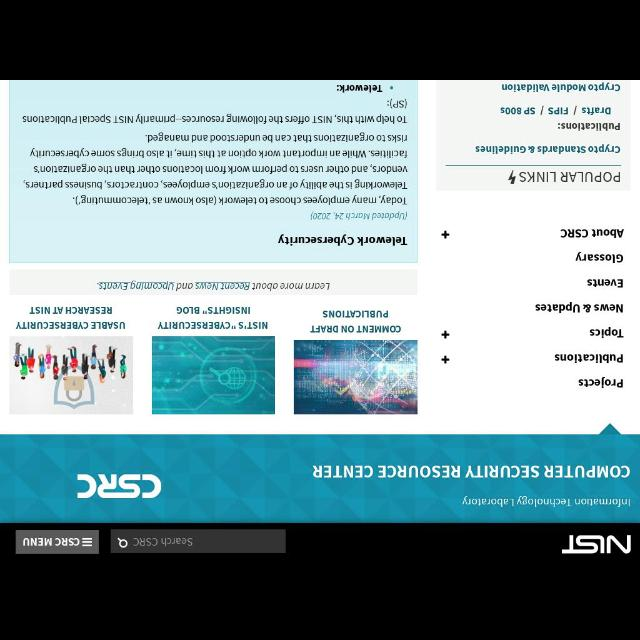icon: (118, 537, 128, 549), (508, 170, 516, 183), (81, 538, 92, 546), (441, 354, 449, 364), (441, 330, 449, 340), (441, 230, 449, 238), (388, 84, 394, 90)
image: (9, 336, 132, 414), (153, 336, 275, 414), (292, 340, 418, 414), (76, 473, 162, 499), (561, 534, 631, 554)
input: (111, 529, 286, 553)
link: (98, 280, 174, 290), (194, 280, 250, 290)
multitab: (441, 228, 624, 388)
text: (22, 99, 408, 205), (312, 464, 630, 478), (158, 306, 268, 330), (16, 306, 126, 330), (96, 280, 330, 290), (310, 310, 400, 332), (462, 496, 630, 506), (278, 234, 407, 246), (476, 144, 620, 154), (520, 170, 620, 182), (500, 105, 610, 115), (502, 82, 620, 91), (534, 302, 624, 312), (310, 212, 408, 220), (554, 353, 624, 363), (560, 228, 624, 238), (22, 537, 80, 547), (575, 251, 623, 263), (578, 376, 624, 388), (556, 122, 620, 130), (132, 538, 192, 546), (336, 83, 382, 93), (590, 326, 622, 338), (587, 278, 623, 288)
textbutton: (15, 530, 99, 554)
toolbar: (1, 522, 640, 560)
